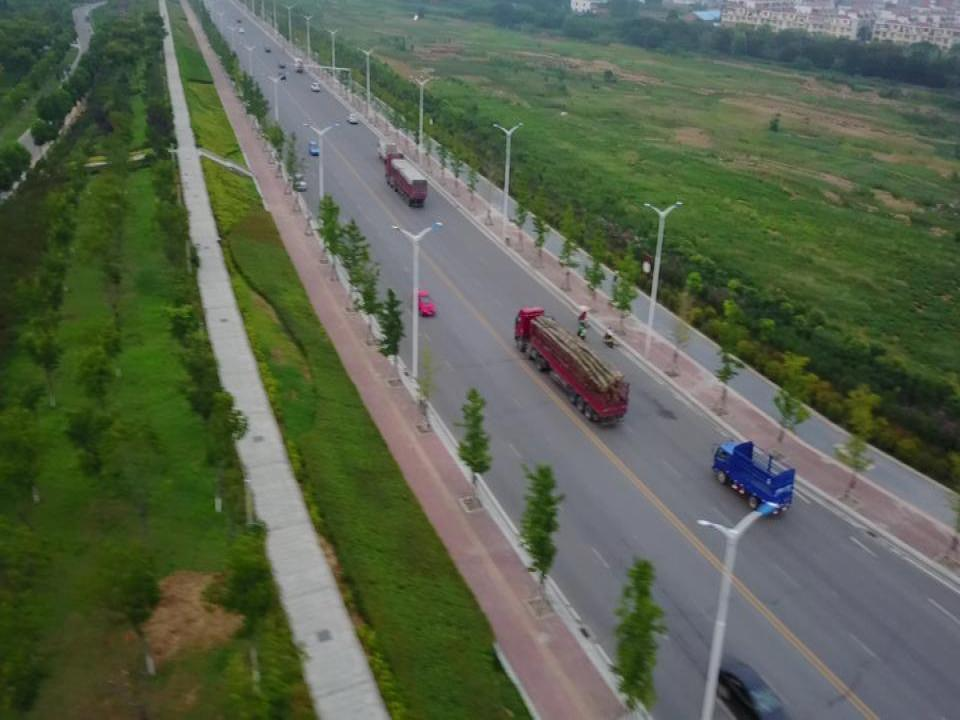car: (705, 650, 788, 720), (411, 286, 435, 314), (292, 171, 307, 189), (292, 56, 302, 71), (309, 141, 319, 155), (346, 113, 358, 123), (311, 81, 320, 91), (278, 71, 287, 80), (278, 60, 285, 68), (238, 26, 244, 34), (264, 44, 270, 51)
truck: (514, 306, 630, 426), (711, 439, 795, 516), (384, 152, 426, 205), (375, 137, 397, 159)
